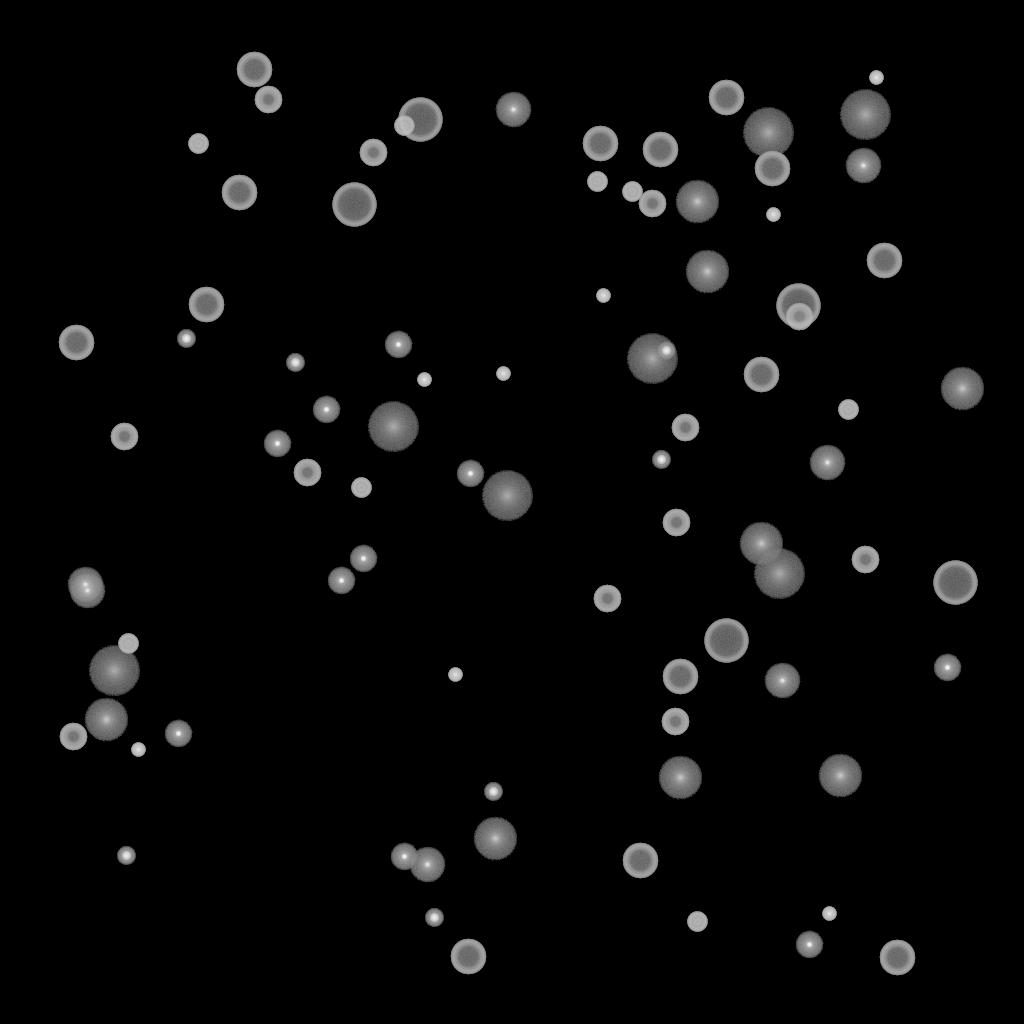depth:-10: (933, 654, 961, 682), (390, 843, 418, 871), (349, 545, 377, 573), (384, 331, 412, 359), (263, 430, 291, 458), (164, 720, 192, 748), (456, 460, 484, 488), (795, 931, 823, 959), (327, 567, 355, 595), (312, 396, 340, 424)
depth:-20: (425, 909, 443, 927), (117, 847, 135, 865), (286, 354, 304, 372), (652, 451, 670, 469), (177, 330, 195, 348), (484, 783, 502, 801), (657, 342, 675, 360)
depth:-30: (822, 907, 836, 921), (596, 289, 610, 303), (496, 367, 510, 381), (766, 208, 780, 222), (448, 668, 462, 682), (417, 373, 431, 387), (131, 743, 145, 757), (869, 71, 883, 85)
depth:-40: (118, 634, 138, 654), (188, 134, 208, 154), (351, 478, 371, 498), (687, 912, 707, 932), (622, 182, 642, 202), (394, 116, 414, 136), (838, 400, 858, 420), (587, 172, 607, 192)
depth:-50: (254, 86, 282, 114), (59, 723, 87, 751), (110, 423, 138, 451), (671, 414, 699, 442), (638, 190, 666, 218), (851, 546, 879, 574), (593, 585, 621, 613), (662, 509, 690, 537), (293, 459, 321, 487), (359, 139, 387, 167), (661, 708, 689, 736), (785, 303, 813, 331)
depth:-60: (708, 80, 744, 116), (879, 940, 915, 976), (743, 357, 779, 393), (236, 52, 272, 88), (642, 132, 678, 168), (58, 325, 94, 361), (754, 151, 790, 187), (221, 175, 257, 211), (866, 243, 902, 279), (622, 843, 658, 879), (582, 126, 618, 162), (188, 287, 224, 323), (450, 939, 486, 975), (662, 659, 698, 695)
depth:-70: (933, 561, 977, 605), (332, 183, 376, 227), (776, 284, 820, 328), (398, 98, 442, 142), (704, 619, 748, 663)
depth:0: (845, 148, 881, 184), (67, 567, 103, 603), (69, 573, 105, 609), (495, 92, 531, 128), (764, 663, 800, 699), (409, 847, 445, 883), (809, 445, 845, 481)
depth:10: (940, 367, 984, 411), (473, 817, 517, 861), (658, 756, 702, 800), (739, 522, 783, 566), (818, 754, 862, 798), (675, 180, 719, 224), (685, 250, 729, 294), (84, 698, 128, 742)
depth:20: (626, 334, 678, 384), (839, 90, 891, 140), (367, 402, 419, 452), (742, 108, 794, 158), (753, 549, 805, 599), (88, 646, 140, 696), (481, 471, 533, 521)
